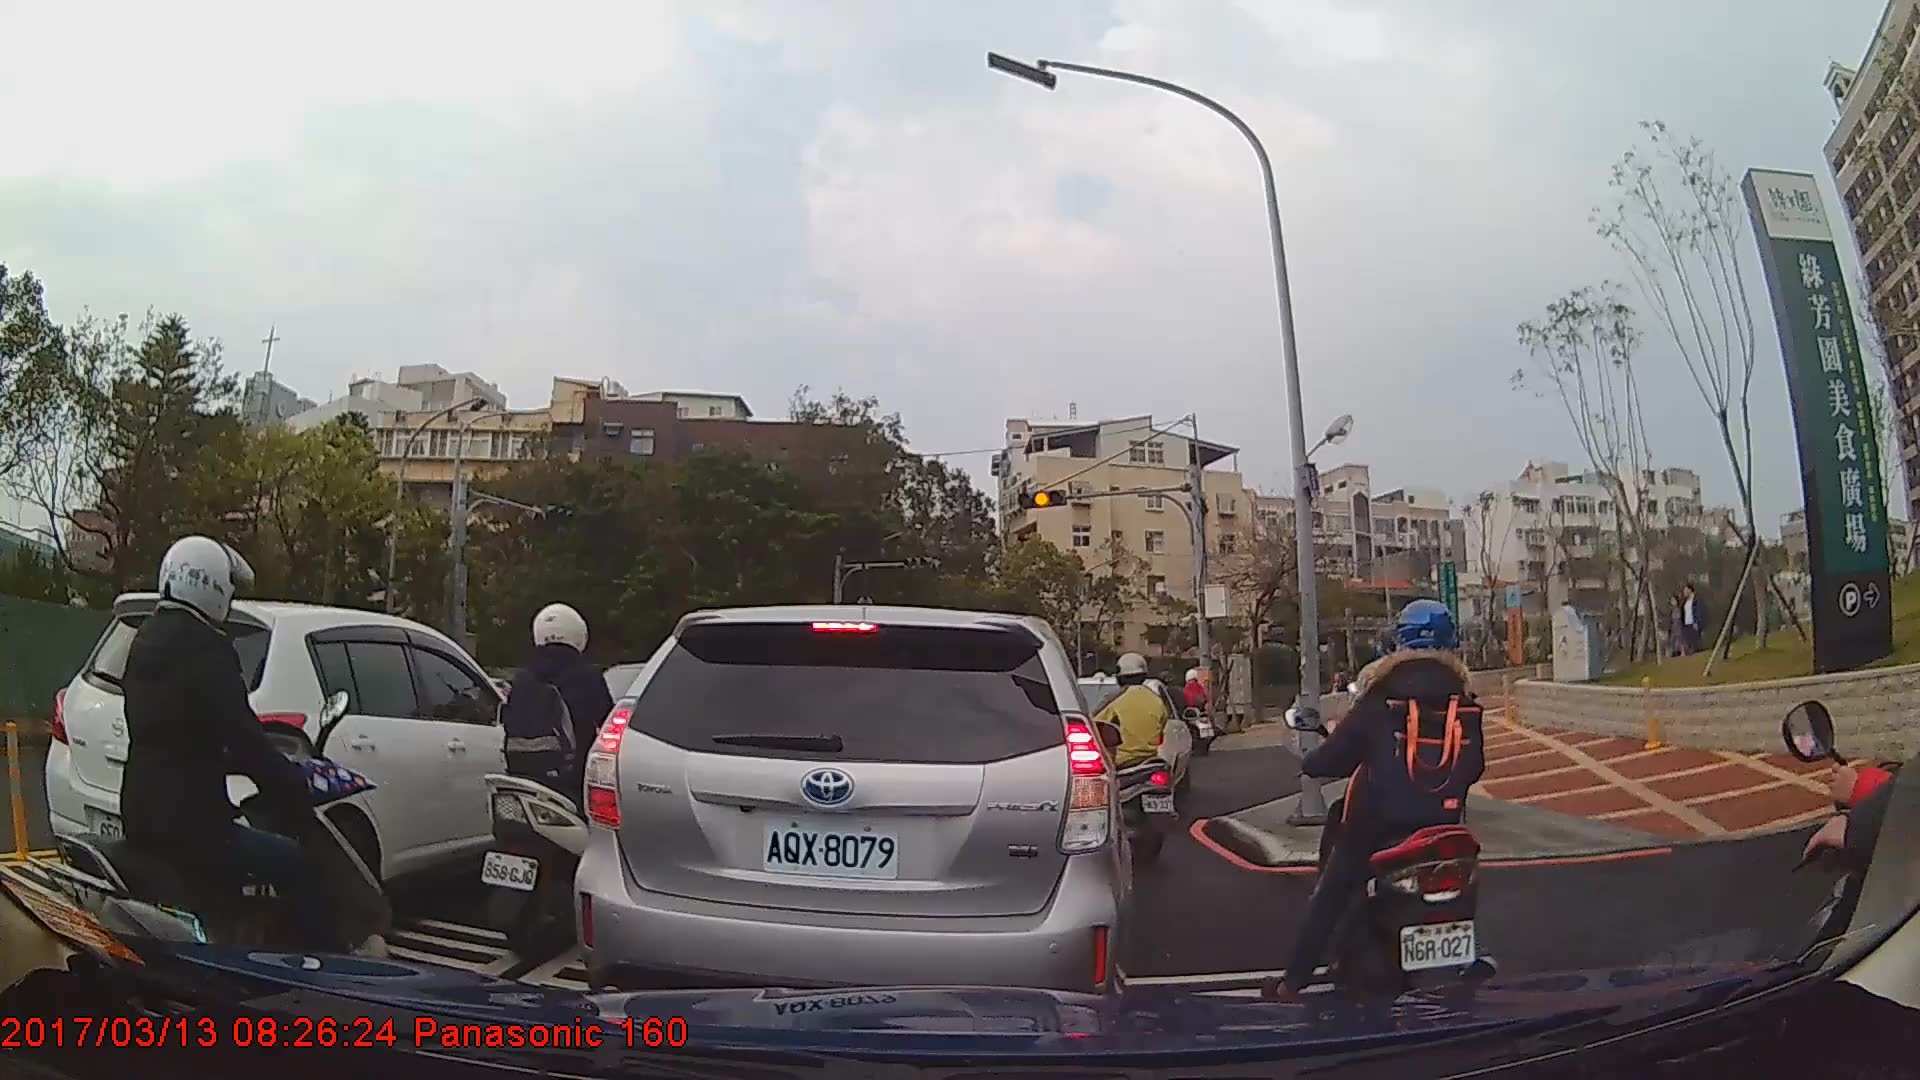pedestrian: (1652, 581, 1696, 674), (1668, 579, 1715, 661)
rider: (56, 532, 402, 1002), (1261, 596, 1497, 1020), (475, 600, 663, 965), (1072, 648, 1178, 868), (1174, 665, 1221, 758)
vehicle: (572, 601, 1135, 1028), (44, 591, 567, 933)
